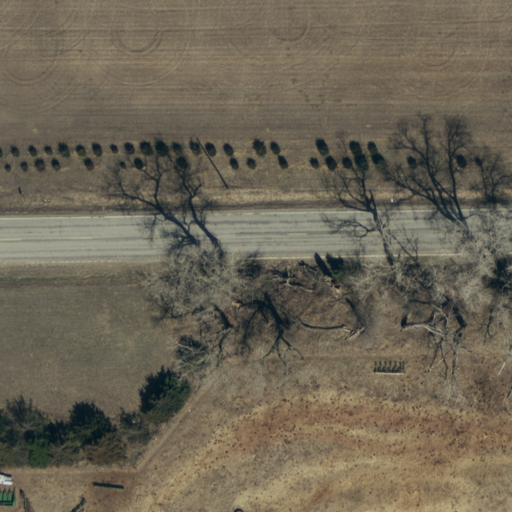DT: (219, 178, 235, 196)
